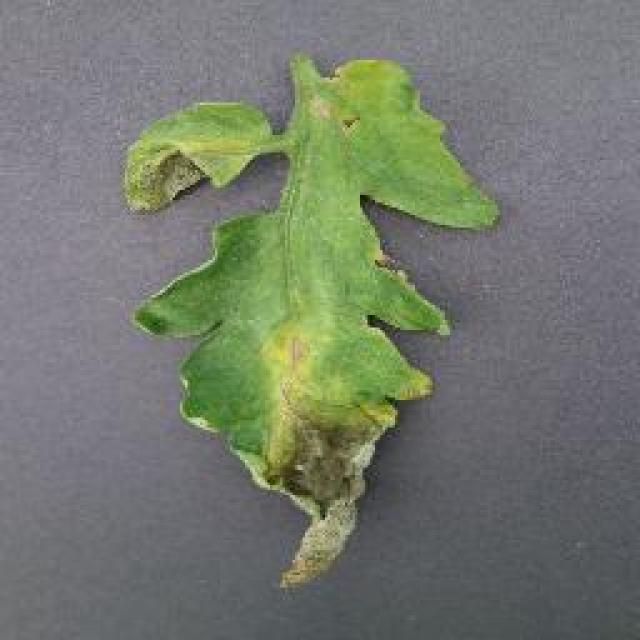Tomato Late Blight: (236, 397, 412, 598)
